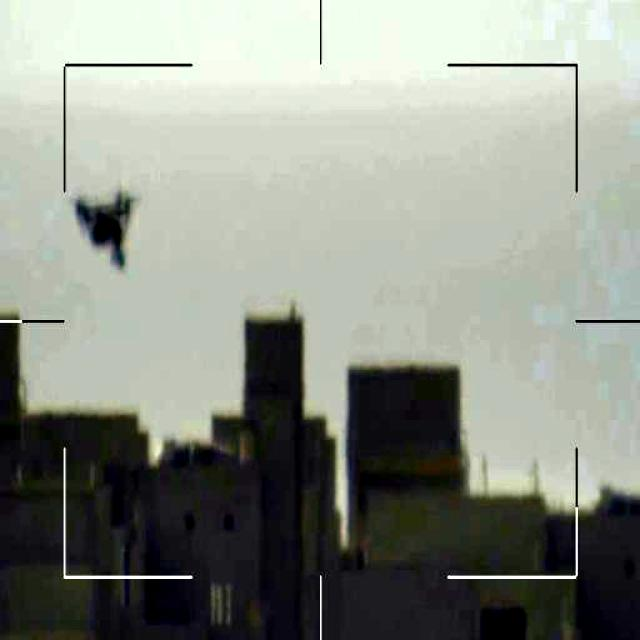bird: (72, 184, 141, 272)
